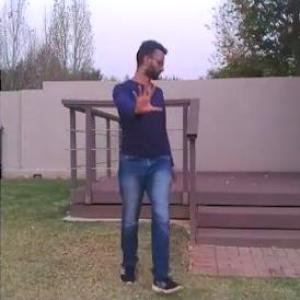follow_hand: (126, 75, 165, 117)
